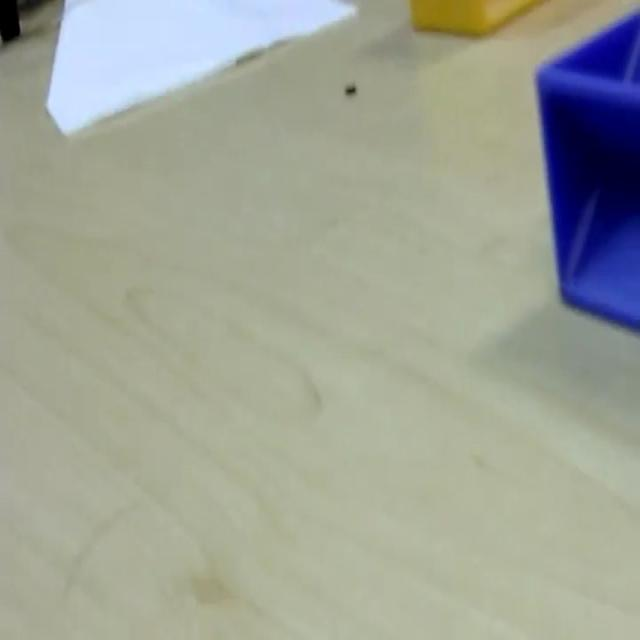blue_block: (532, 7, 638, 330)
yellow_block: (408, 0, 543, 36)
